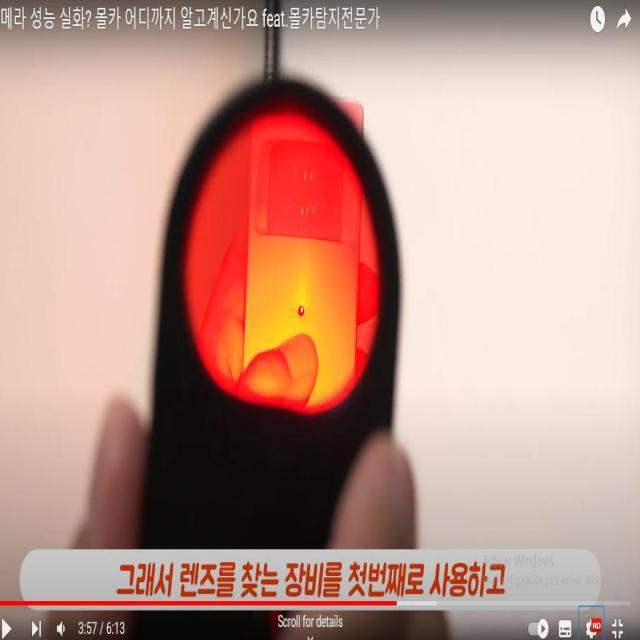hidden camera: (293, 296, 312, 327)
